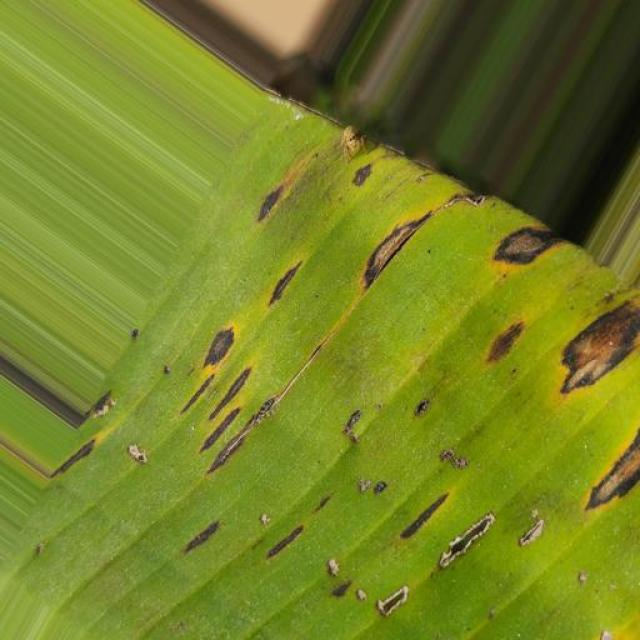Early_rust: (67, 120, 640, 640)
